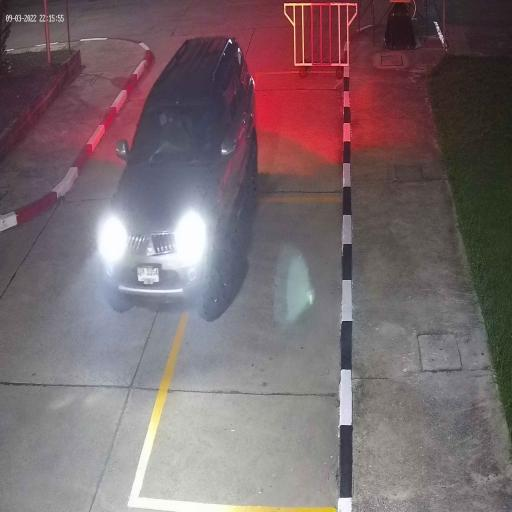car: (98, 34, 260, 320)
